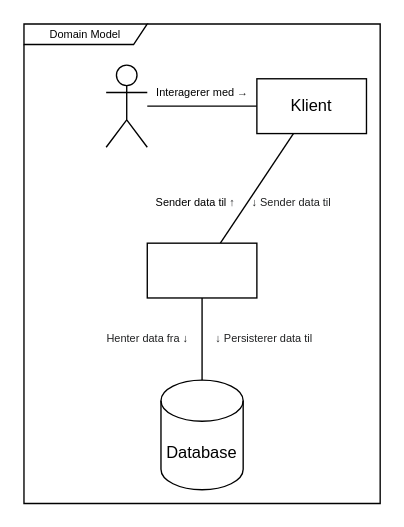
Image size: 404x527. Some labels were removed from this diagram. Each missing label, with the centre of its shape:
"Bruger" belongs at point (126, 105).
"Server" belongs at point (201, 270).
